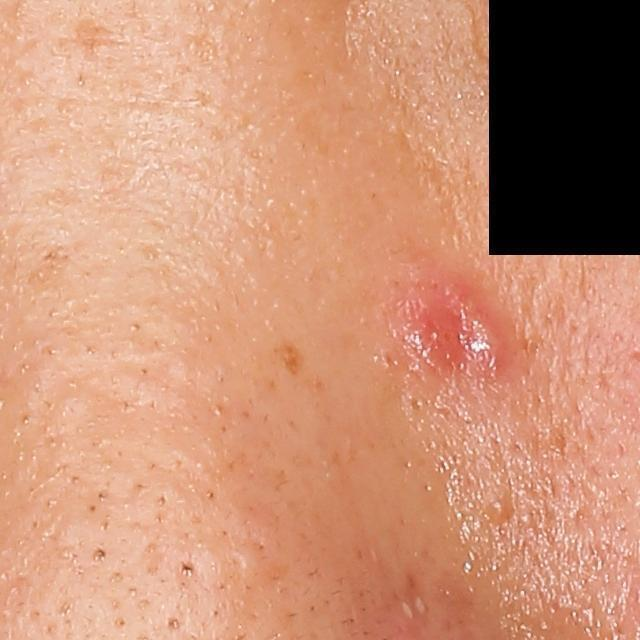comedo: (483, 500, 514, 531), (88, 542, 112, 565)
melasma: (275, 334, 307, 381)
papule: (385, 271, 515, 384)
